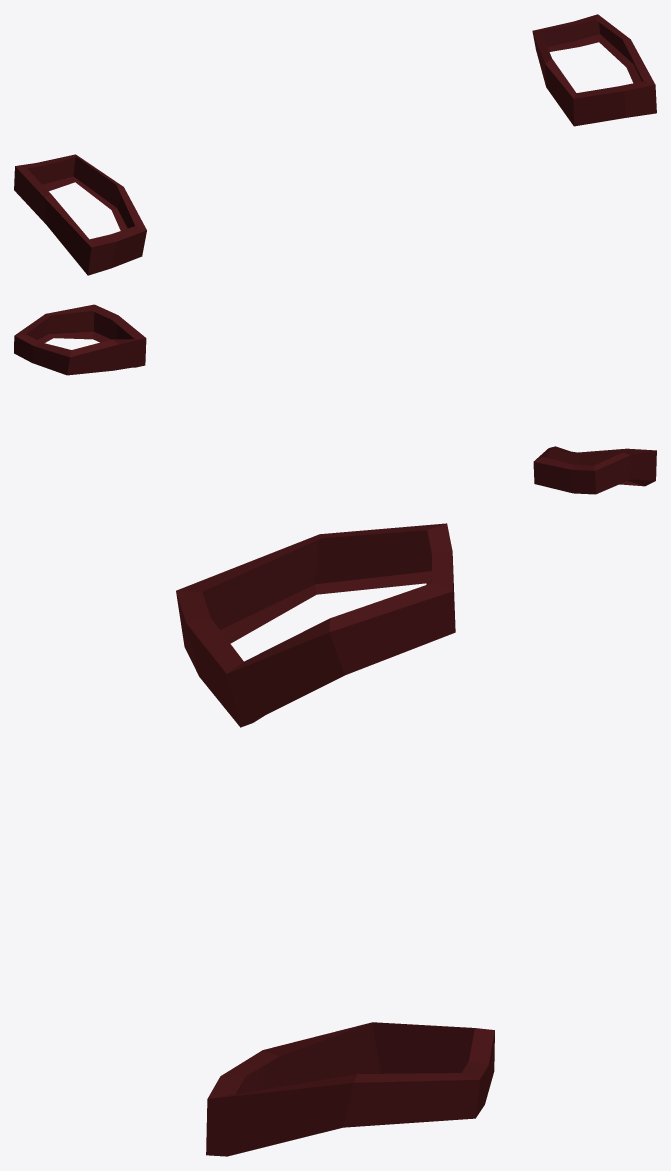
The model's file is LightJacket.obj.
The picture shows the model from 3 angles, top to bottom: view 1: azimuth 30°, elevation 25°; view 2: azimuth 150°, elevation 25°; view 3: azimuth 270°, elevation 25°; orthographic projection. The views are drawn at different scales.
Bounding box in the file's own units: 0.5798 × 0.0667 × 0.1388.
